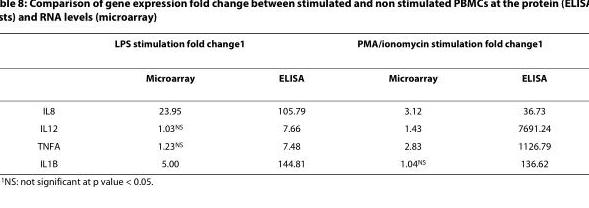table: (36, 36, 550, 168)
table column: (86, 36, 235, 168), (330, 36, 476, 168), (235, 36, 330, 168), (476, 36, 550, 168), (36, 36, 86, 168)
table column header: (36, 36, 550, 93)
table row: (36, 59, 550, 93), (36, 93, 550, 118), (36, 36, 550, 59), (36, 118, 550, 136), (36, 136, 550, 154), (36, 154, 550, 168)
table spanning cell: (86, 36, 330, 59), (330, 36, 550, 59)
